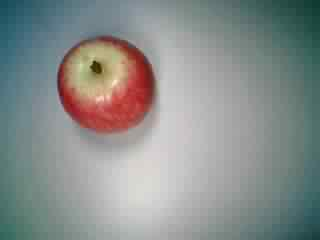apple: (54, 32, 158, 136)
